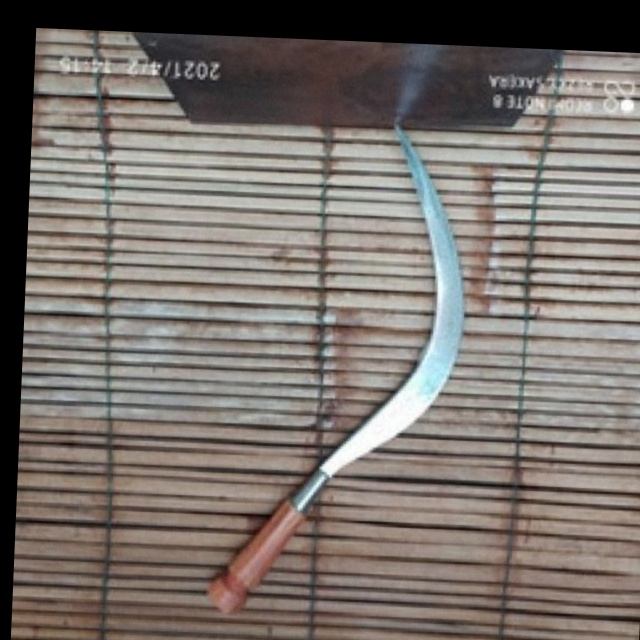Sharp-Object: (201, 117, 479, 633)
